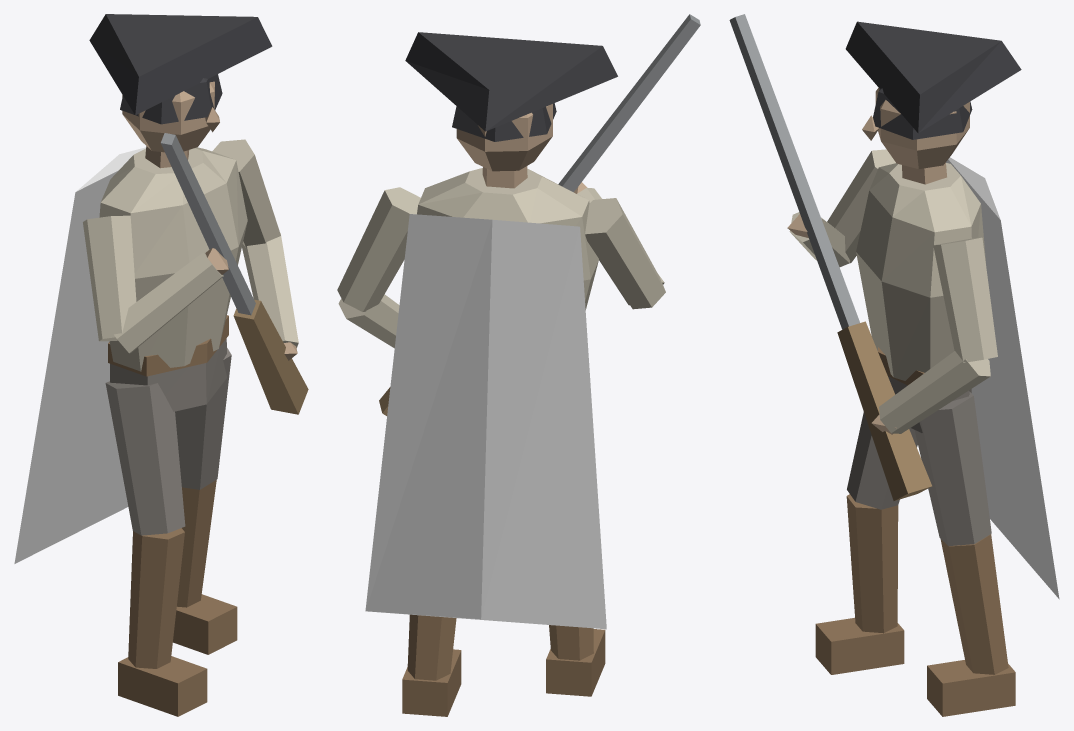
Rendered from minuteman.glb.
3 views of the same model, side by side, from view 1: azimuth 30°, elevation 25°; view 2: azimuth 150°, elevation 25°; view 3: azimuth 270°, elevation 25° (orthographic).
Visible parts, largest first — view 1: LOD0; view 2: LOD0; view 3: LOD0.
Boxes of the visible parts, x1,y1,x2,y2 form: LOD0: (14, 14, 308, 716); LOD0: (337, 14, 700, 716); LOD0: (729, 14, 1059, 716).
Size of what is drawn, in the model's own units: 0.4283 by 0.976 by 0.4659.
